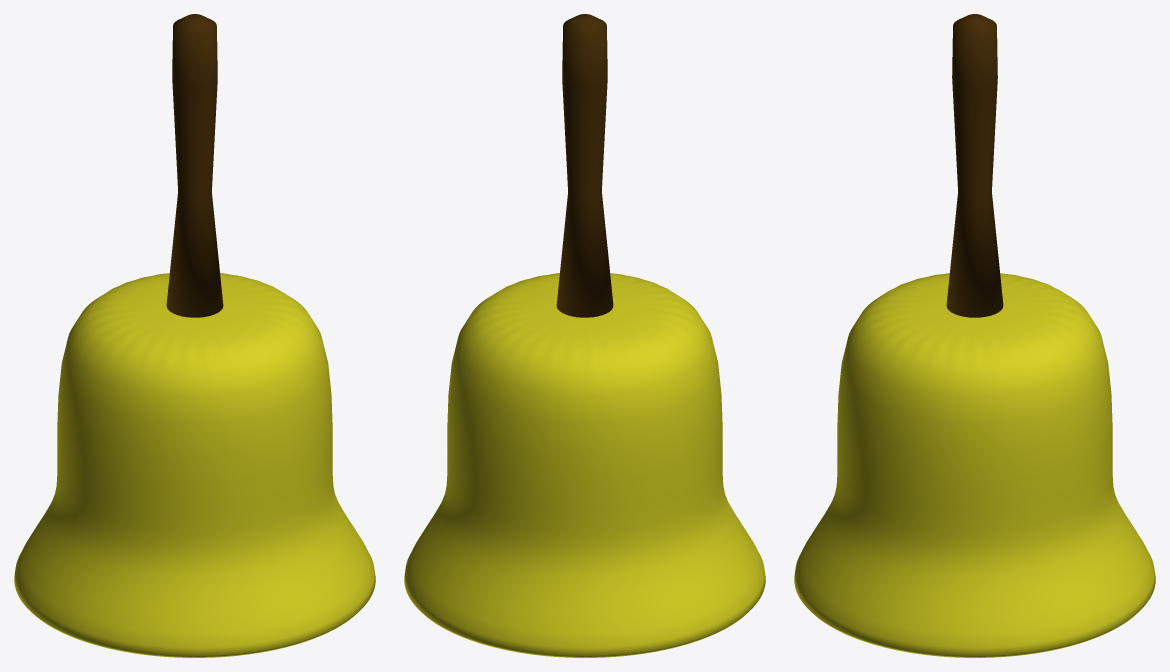
Rendered from bell.fbx.
The picture shows the model from 3 angles, left to right: view 1: azimuth 30°, elevation 25°; view 2: azimuth 150°, elevation 25°; view 3: azimuth 270°, elevation 25°; orthographic projection.
Parts seen in each view (by area): view 1: bellbody, handle; view 2: bellbody, handle; view 3: bellbody, handle.
Part boxes in pixels (<box>): bellbody: <box>14,273,375,657</box>; handle: <box>166,14,223,317</box>; bellbody: <box>404,273,765,657</box>; handle: <box>556,14,613,317</box>; bellbody: <box>794,273,1155,657</box>; handle: <box>946,14,1003,317</box>.
Size of the model in its own units: 20.06 by 34.6 by 20.06.
